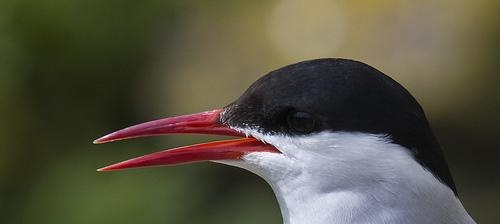bird: (79, 56, 480, 224)
